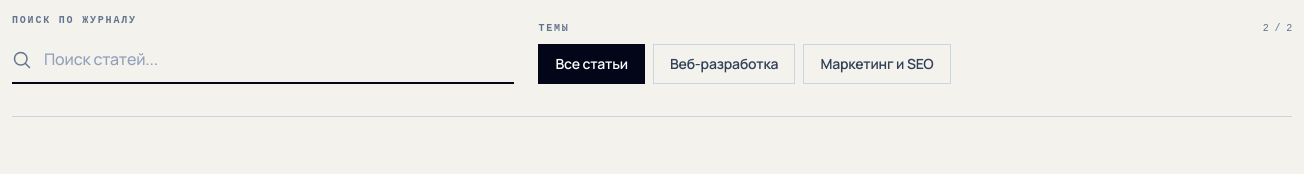
Test: BlogFilters Component › показывает количество найденных статей
The width and height of the screenshot is (1304, 174).
What coordinates should you click on to do the following:
click the button "Веб-разработка"
I would click on:
 (724, 64)
Its box is x1=653 y1=44 x2=796 y2=84.
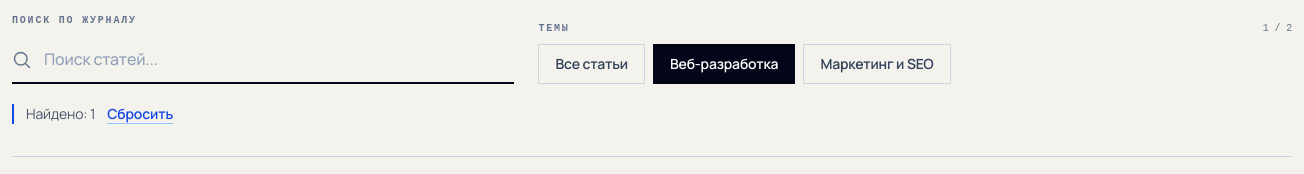
Expected: the text "Найдено: 1" is shown, x1=26 y1=104 x2=95 y2=124
